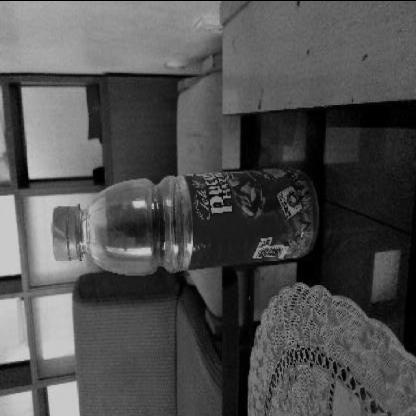plastic_bottles: (48, 162, 324, 276)
